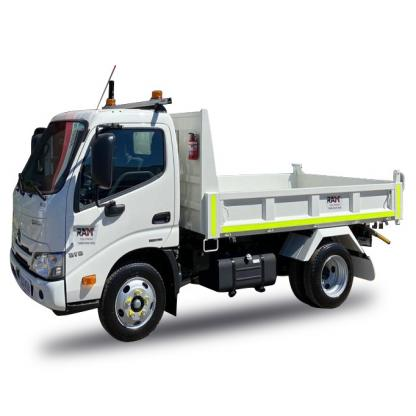dump_truck: (13, 77, 416, 349)
